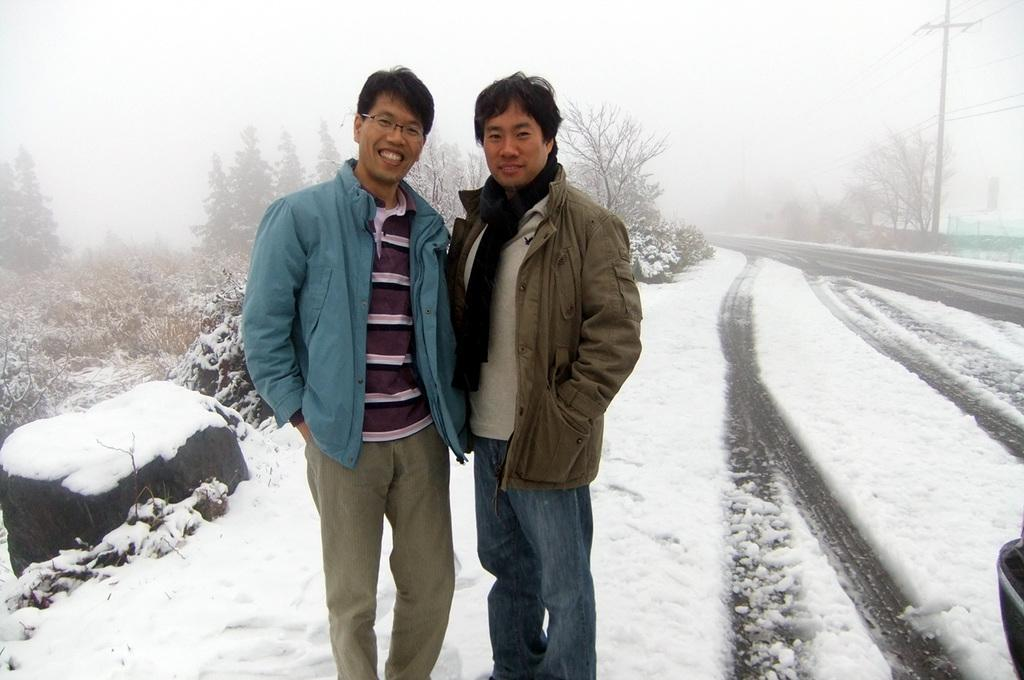Sem Máscara: (359, 89, 425, 182), (484, 94, 543, 184)
